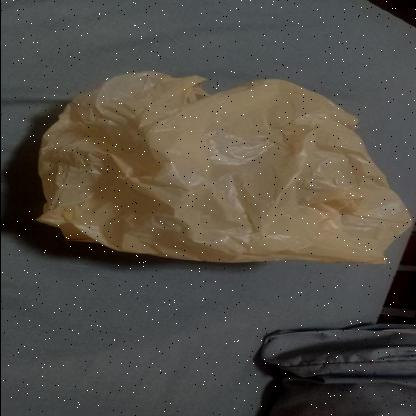Others: (32, 70, 412, 264)
